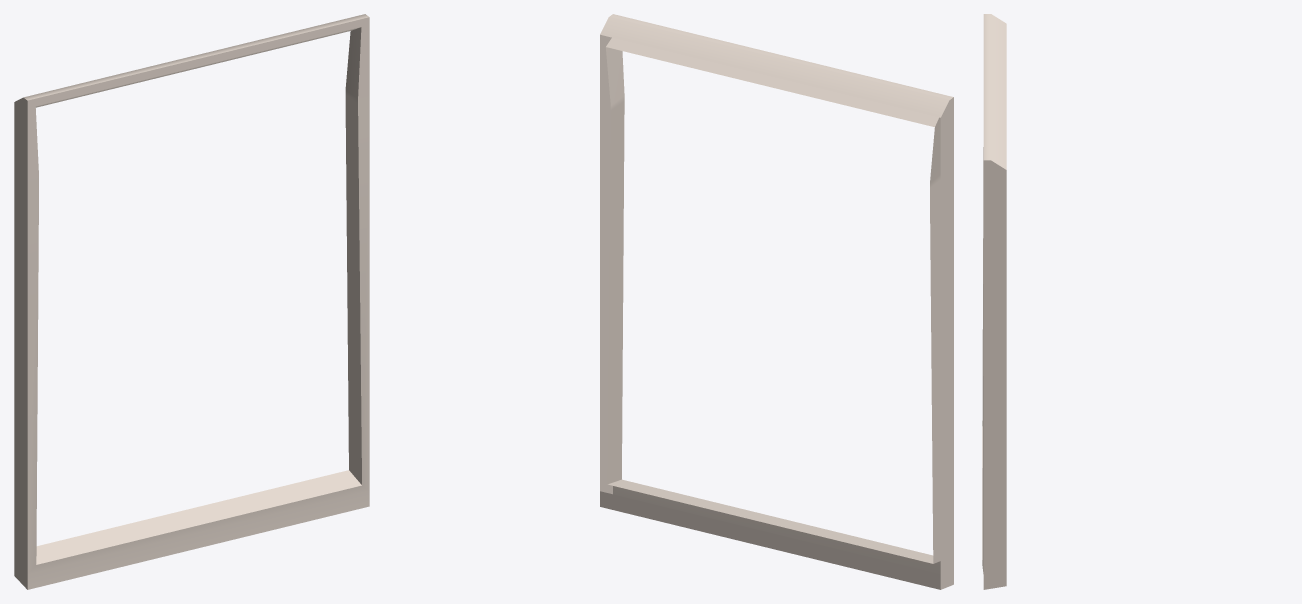
The model's file is FridgeDrawer1_10_FridgeDrawer1B4_1_GeomSubset_0.obj.
3 views of the same model, side by side, from view 1: azimuth 30°, elevation 25°; view 2: azimuth 150°, elevation 25°; view 3: azimuth 270°, elevation 25° (orthographic). The views are drawn at different scales.
Visible parts, largest first — view 1: FridgeDrawer1_10_FridgeDrawer1B4_1_GeomSubset_0; view 2: FridgeDrawer1_10_FridgeDrawer1B4_1_GeomSubset_0; view 3: FridgeDrawer1_10_FridgeDrawer1B4_1_GeomSubset_0.
Part boxes in pixels (<box>): FridgeDrawer1_10_FridgeDrawer1B4_1_GeomSubset_0: <box>14,14,369,589</box>; FridgeDrawer1_10_FridgeDrawer1B4_1_GeomSubset_0: <box>600,14,953,589</box>; FridgeDrawer1_10_FridgeDrawer1B4_1_GeomSubset_0: <box>982,14,1006,589</box>.
Bounding box in the file's own units: 0.3879 × 0.4715 × 0.3035.
